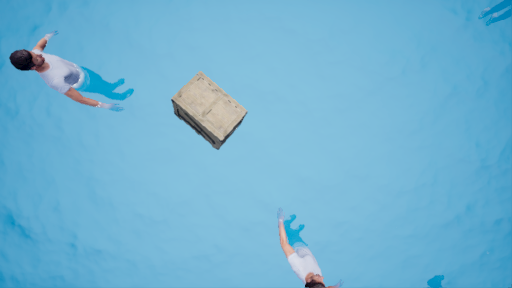person: (13, 29, 148, 125), (273, 214, 346, 285)
